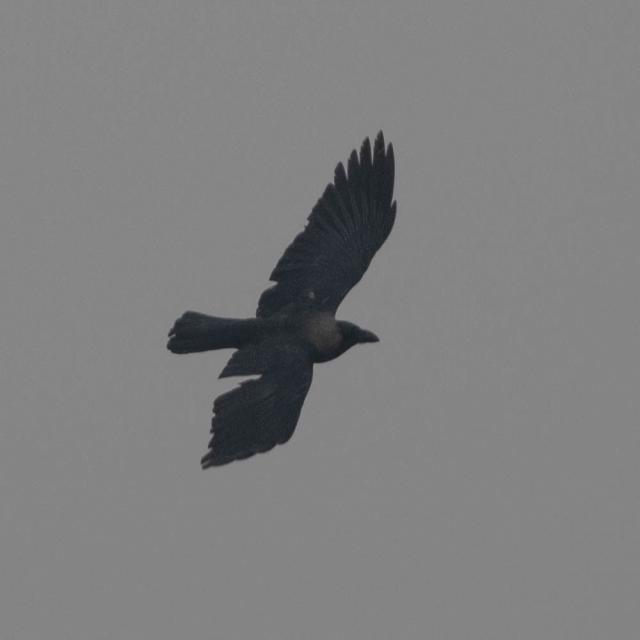bird: (162, 124, 402, 478)
